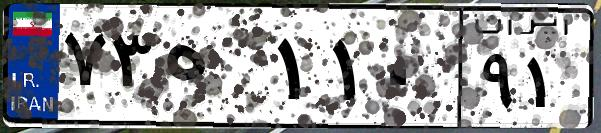0: (385, 28, 445, 110)
1: (270, 28, 330, 110), (330, 28, 385, 110), (525, 38, 570, 115)
3: (110, 28, 158, 98)
7: (57, 26, 110, 100)
9: (475, 38, 525, 113)
ه: (158, 20, 270, 120)
